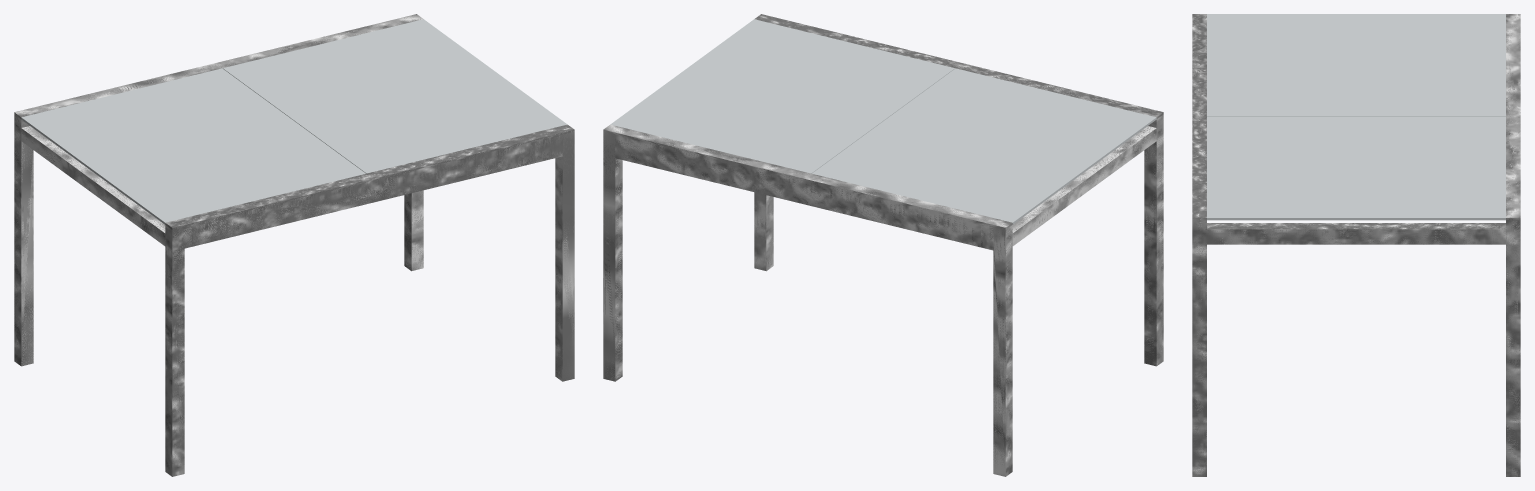
Rendered from dinning_room_table.dae.
3 renders of one model, left to right at view 1: azimuth 30°, elevation 25°; view 2: azimuth 150°, elevation 25°; view 3: azimuth 270°, elevation 25°, orthographic. The views are drawn at different scales.
Parts seen in each view (by area): view 1: instance_0_003, instance_0, instance_0_002; view 2: instance_0_003, instance_0, instance_0_002; view 3: instance_0_003, instance_0, instance_0_002.
Boxes of the visible parts, x1,y1,x2,y2 form: instance_0_003: (21,19,567,224); instance_0: (14,14,574,476); instance_0_002: (165,124,574,227); instance_0_003: (610,19,1156,224); instance_0: (603,112,1163,476); instance_0_002: (754,14,1163,117); instance_0_003: (1207,14,1505,220); instance_0: (1192,14,1520,476); instance_0_002: (1192,14,1520,229).
Size of the model in its own units: 1.25 by 0.8509 by 0.7398.
Materials: 6 (3 with a texture image).
